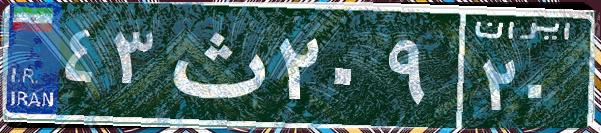0: (330, 28, 385, 110), (525, 38, 570, 115)
2: (273, 28, 330, 110), (475, 38, 525, 113)
3: (110, 28, 158, 105)
4: (57, 26, 110, 107)
9: (385, 28, 445, 110)
ث: (158, 15, 273, 115)
